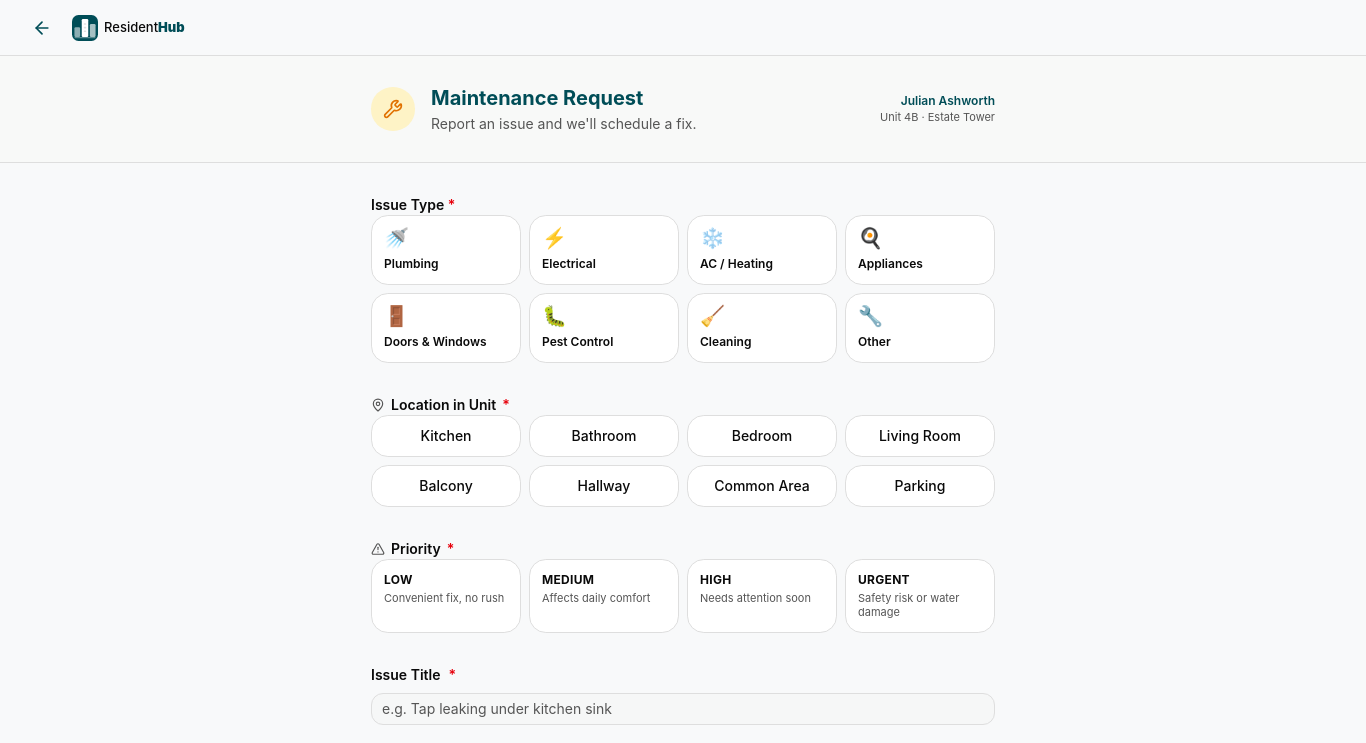
MaintenancePage › shows emergency warning banner when Urgent is selected
Click the radio button labelled "Urgent Safety risk or water damage" at [920, 596], box [845,559,995,632]
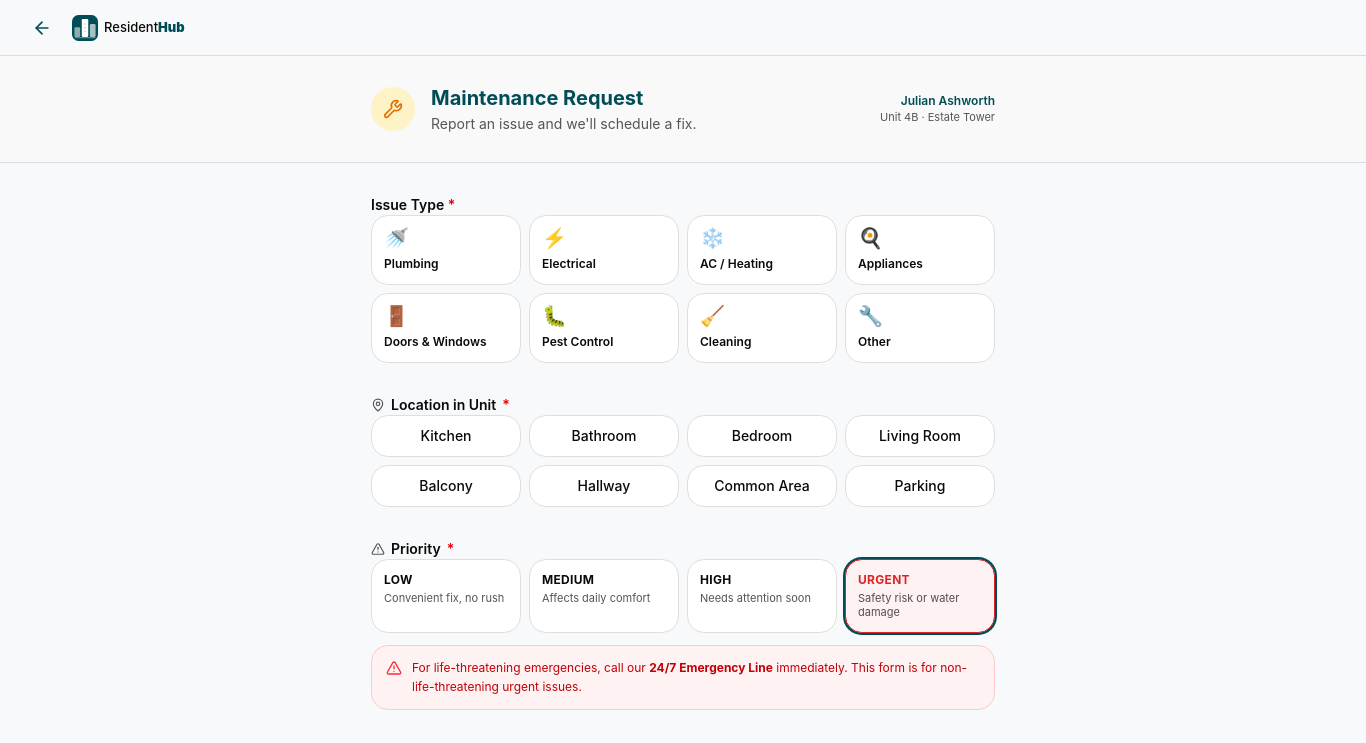
Now the message is shown, box [371,644,995,710]
Now the text "24/7 Emergency Line" is shown, box [649,660,773,674]
